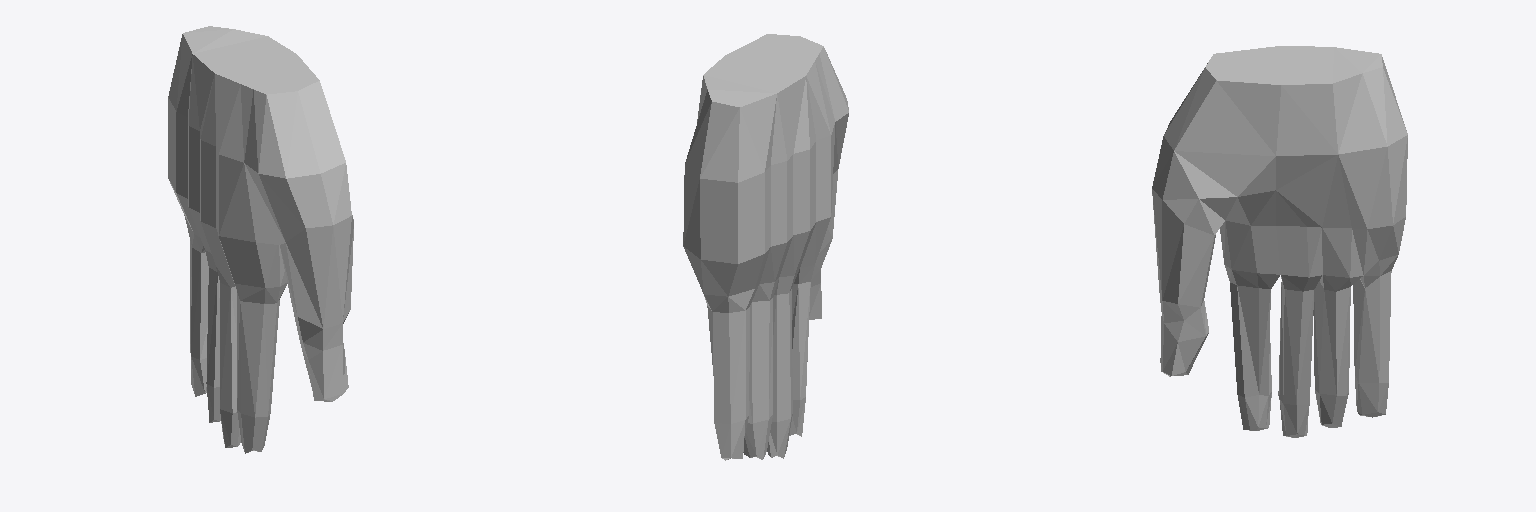
Rendered from righthand.obj.
3 renders of one model, left to right at view 1: azimuth 30°, elevation 25°; view 2: azimuth 150°, elevation 25°; view 3: azimuth 270°, elevation 25°, orthographic.
Parts seen in each view (by area): view 1: cube1_cut4; view 2: cube1_cut4; view 3: cube1_cut4.
Part boxes in pixels (bbox=[...]): cube1_cut4: bbox=[168, 26, 353, 453]; cube1_cut4: bbox=[683, 34, 848, 460]; cube1_cut4: bbox=[1152, 46, 1407, 437].
Size of the model in its own units: 0.2622 by 0.9563 by 0.5779.